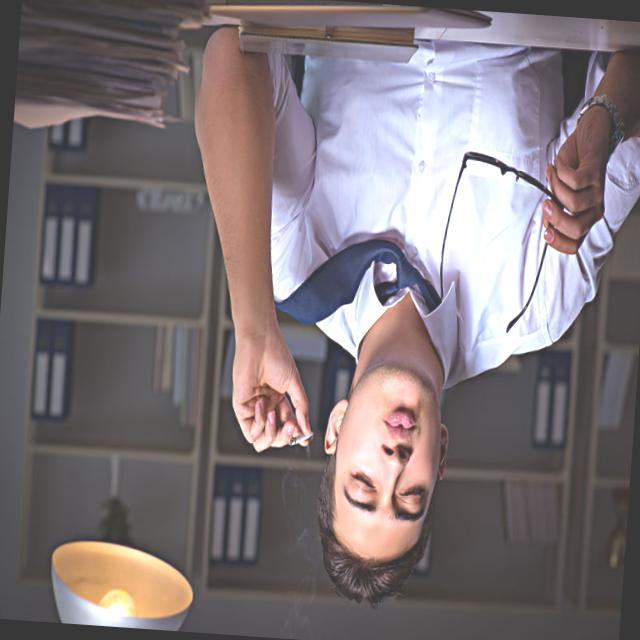smoke: (284, 421, 318, 450)
